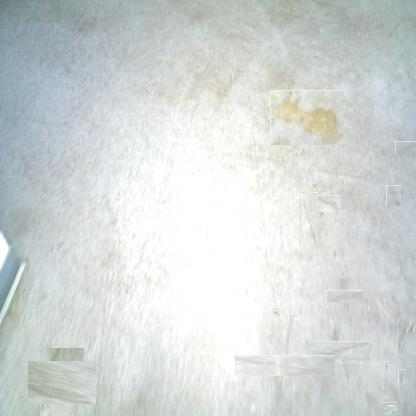liquid: (270, 90, 343, 145), (398, 317, 416, 355), (383, 401, 396, 413)
mark: (254, 335, 315, 396), (34, 354, 90, 410), (321, 332, 360, 370), (300, 192, 318, 244), (332, 284, 357, 309), (316, 193, 339, 215), (384, 187, 403, 204), (397, 139, 414, 156), (398, 369, 405, 384), (271, 309, 279, 318), (383, 361, 389, 372)
